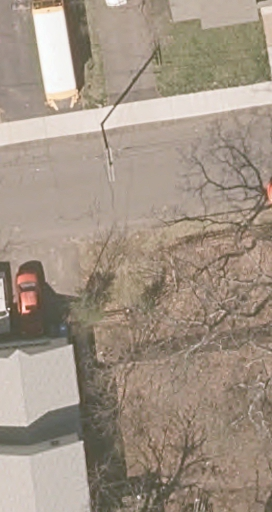DT: (99, 123, 116, 183)
